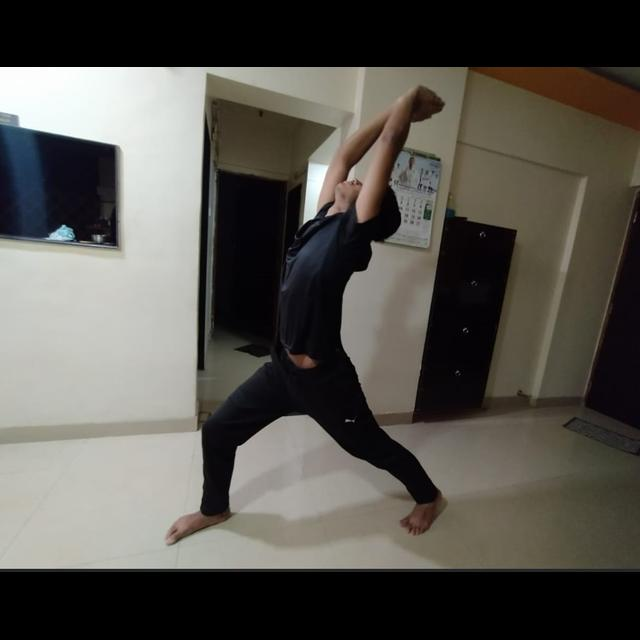Warrior_I: (163, 78, 451, 539)
